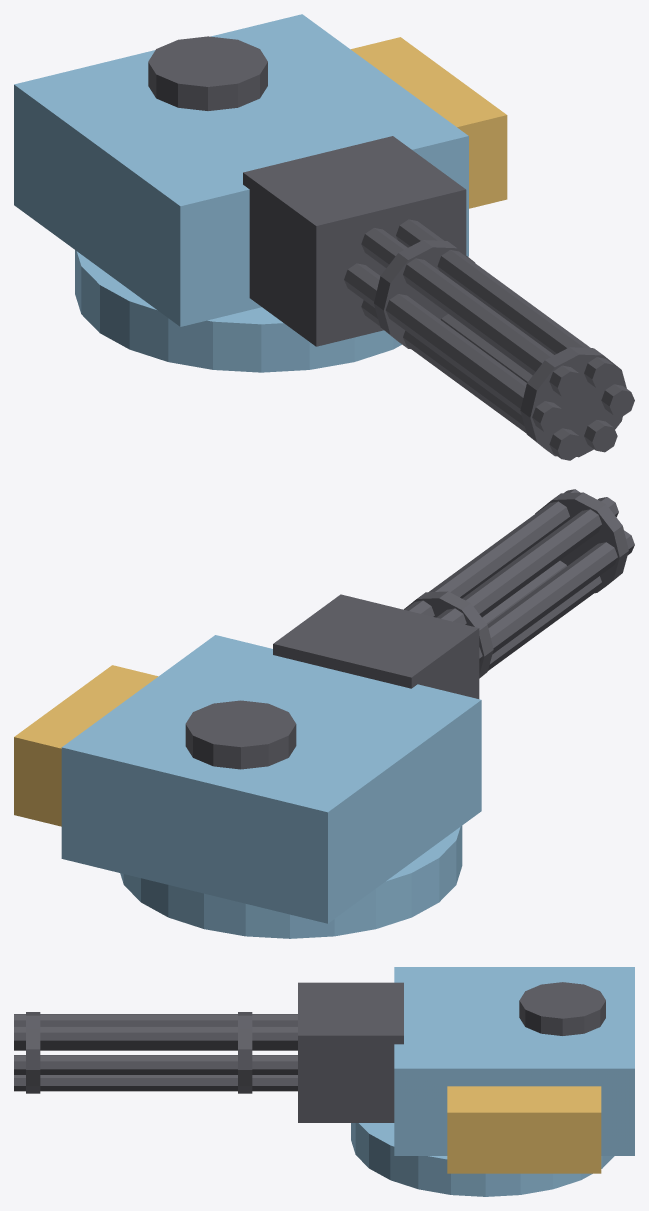
File: MinigunTurret.fbx
The picture shows the model from 3 angles, top to bottom: view 1: azimuth 30°, elevation 25°; view 2: azimuth 150°, elevation 25°; view 3: azimuth 270°, elevation 25°; orthographic projection. The views are drawn at different scales.
Visible parts, largest first — view 1: Minigun_Body, Minigun_Barrels; view 2: Minigun_Body, Minigun_Barrels; view 3: Minigun_Body, Minigun_Barrels.
Boxes of the visible parts, x1=… form: Minigun_Body: x1=14, y1=14, x2=507, y2=372; Minigun_Barrels: x1=344, y1=219, x2=634, y2=460; Minigun_Body: x1=14, y1=594, x2=481, y2=938; Minigun_Barrels: x1=404, y1=489, x2=634, y2=678; Minigun_Body: x1=298, y1=967, x2=634, y2=1196; Minigun_Barrels: x1=14, y1=1012, x2=297, y2=1093.
Size of the model in its own units: 0.66 by 1.29 by 0.32.
